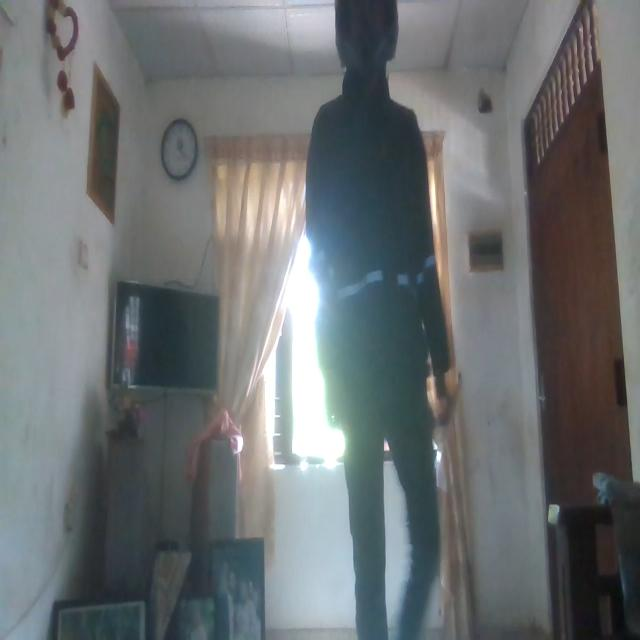Helmet_Wearer: (324, 0, 403, 77)
Jacket_Wearer: (306, 70, 450, 451)
Person: (306, 2, 448, 640)
